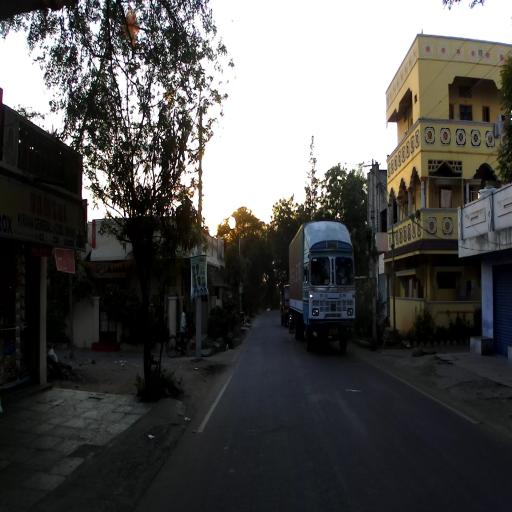street_light_0: (358, 191, 376, 220)
